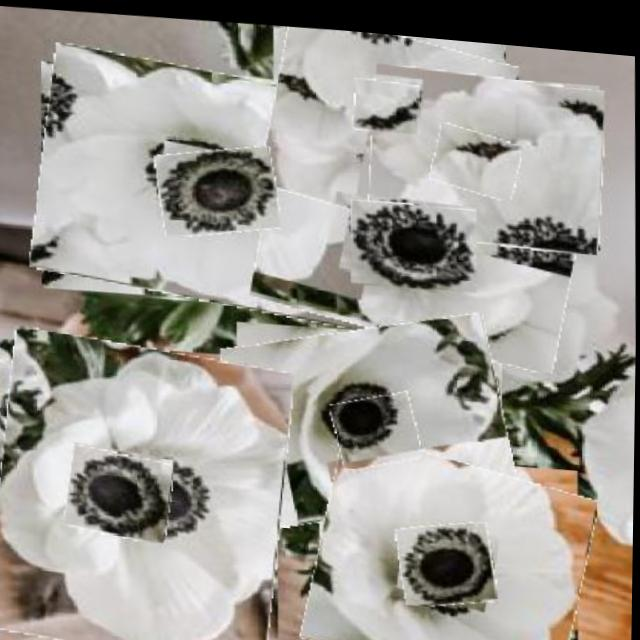Flower: (32, 43, 390, 322), (255, 61, 590, 359), (0, 325, 292, 640), (226, 298, 515, 530), (307, 428, 594, 640), (263, 19, 517, 230), (367, 54, 607, 248), (155, 136, 282, 238), (350, 191, 478, 288), (66, 443, 175, 540), (398, 508, 499, 601), (333, 383, 421, 464), (432, 116, 521, 191), (352, 70, 420, 128)
